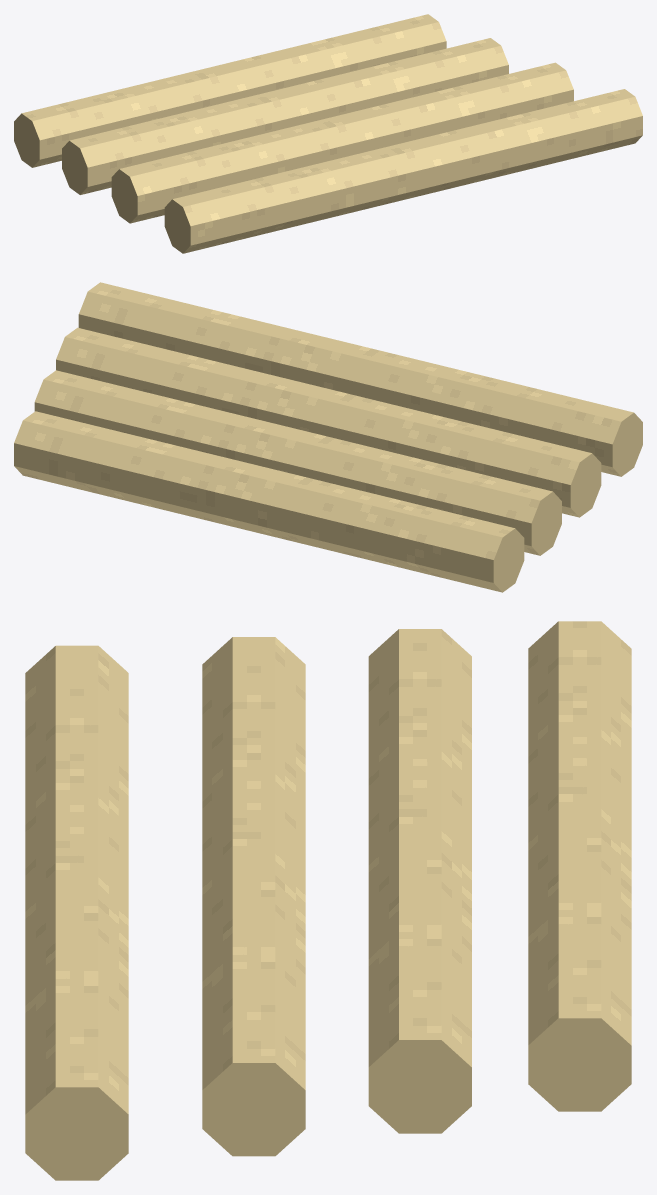
File: candycigarette.glb
3 views of the same model, one above another, from view 1: azimuth 30°, elevation 25°; view 2: azimuth 150°, elevation 25°; view 3: azimuth 270°, elevation 25° (orthographic). The views are drawn at different scales.
Parts seen in each view (by area): view 1: block_long candy stick (×4); view 2: block_long candy stick (×4); view 3: block_long candy stick (×4).
Part boxes in pixels (left/top/right/bottom): block_long candy stick (×4): left=14, top=14, right=642, bottom=253; block_long candy stick (×4): left=14, top=282, right=642, bottom=592; block_long candy stick (×4): left=25, top=621, right=631, bottom=1180.
Bounding box in the file's own units: 0.0593 × 0.00556 × 0.0326.
Materials: 1 (1 with a texture image).
